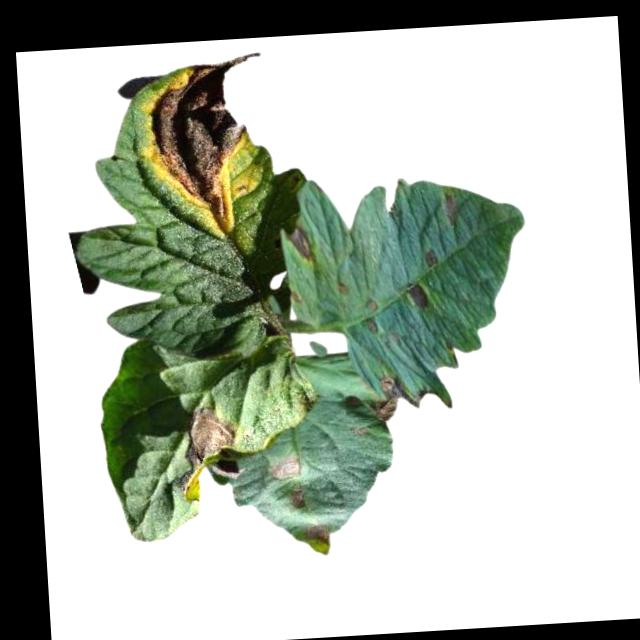Early_blight: (147, 47, 270, 235), (171, 401, 252, 505), (369, 374, 409, 421), (288, 224, 315, 266), (437, 187, 461, 226), (268, 455, 303, 480), (405, 280, 429, 312), (307, 521, 331, 547), (289, 484, 309, 511), (423, 248, 442, 269), (367, 294, 381, 313), (338, 281, 352, 292)
